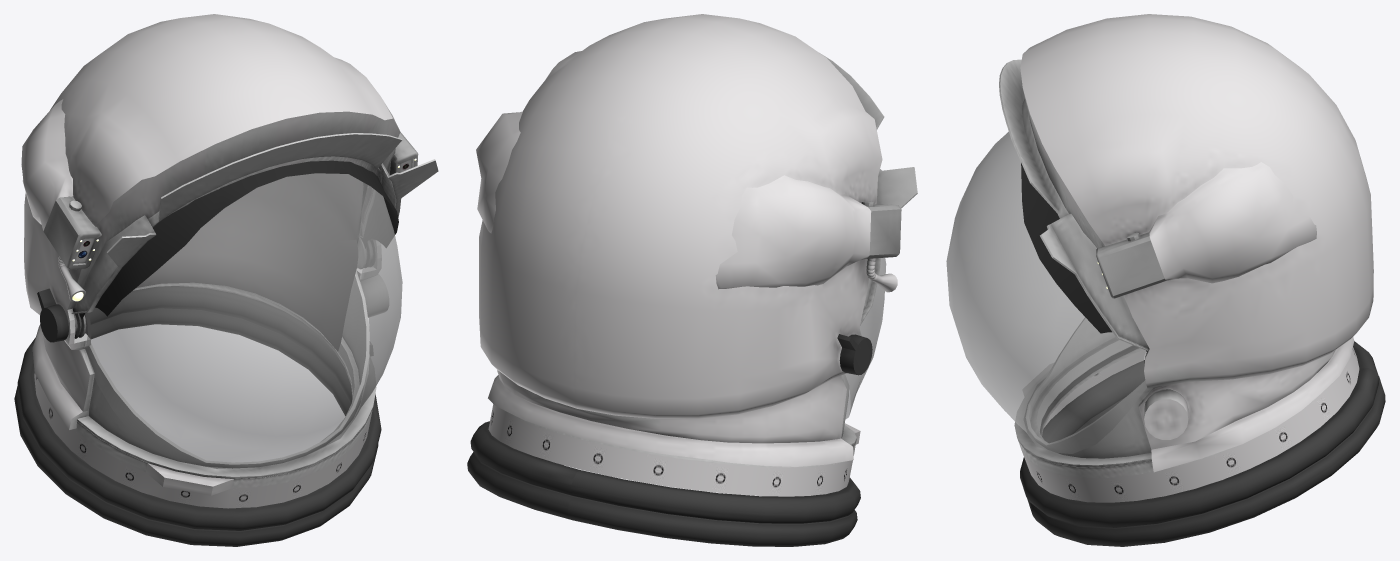
The model's file is astronaut_helmet.glb.
The picture shows the model from 3 angles, left to right: view 1: azimuth 30°, elevation 25°; view 2: azimuth 150°, elevation 25°; view 3: azimuth 270°, elevation 25°; orthographic projection. The views are drawn at different scales.
Visible parts, largest first — view 1: Helmet-Body_Helmet-Body_0, Helmet-Body_helmet_glass_0, Black-one_Standard_14_0; view 2: Helmet-Body_Helmet-Body_0, Helmet-Body_helmet_glass_0; view 3: Helmet-Body_Helmet-Body_0, Helmet-Body_helmet_glass_0, Black-one_Standard_14_0.
Boxes of the visible parts, box(x1,y1,x2,y2) form: Helmet-Body_Helmet-Body_0: box(14, 14, 438, 546); Helmet-Body_helmet_glass_0: box(84, 173, 402, 468); Black-one_Standard_14_0: box(79, 160, 398, 319); Helmet-Body_Helmet-Body_0: box(467, 14, 917, 546); Helmet-Body_helmet_glass_0: box(843, 257, 886, 419); Helmet-Body_Helmet-Body_0: box(999, 14, 1385, 546); Helmet-Body_helmet_glass_0: box(946, 131, 1146, 453); Black-one_Standard_14_0: box(1021, 163, 1147, 351).
Bounding box in the file's own units: 29.92 × 37.87 × 31.84.
Materials: 3 (1 with a texture image).
